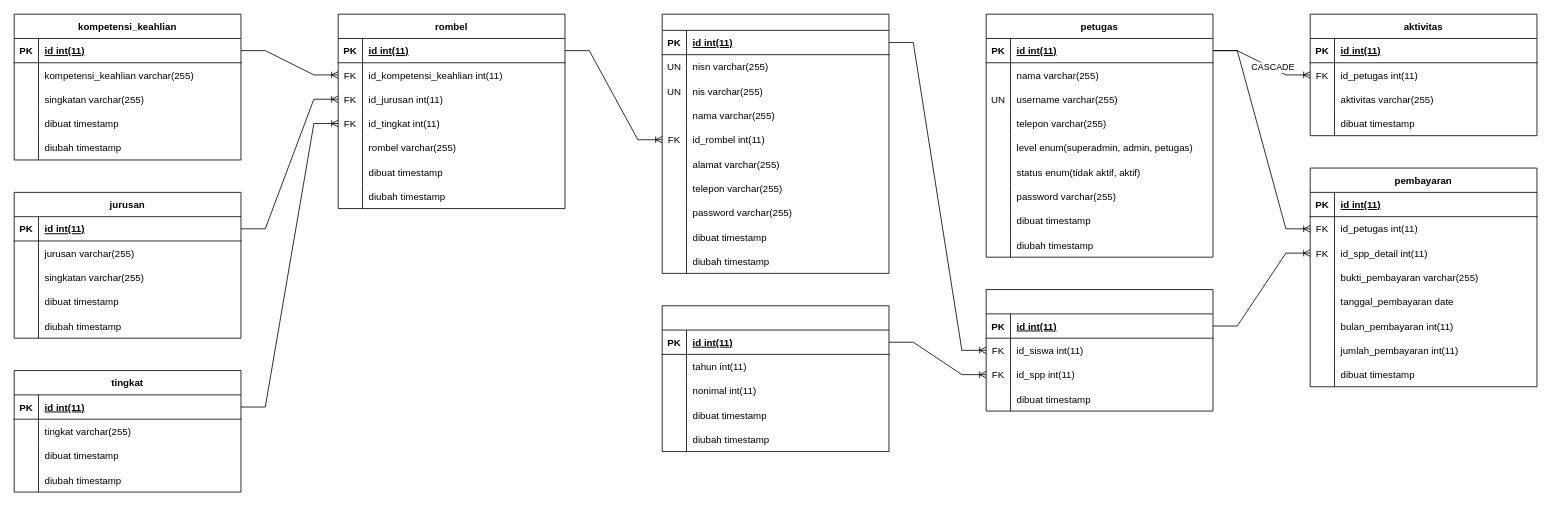
The diagram is 1551 pixels wide and 506 high, and some of its shapes have lost their labels. The shapes that lost their labels are listed below. From the top down, each one's box as (x1, y1, x2, y2) in pixels, then its label:
(661, 13, 889, 273): siswa
(985, 289, 1213, 411): spp_detail
(661, 305, 889, 452): spp
